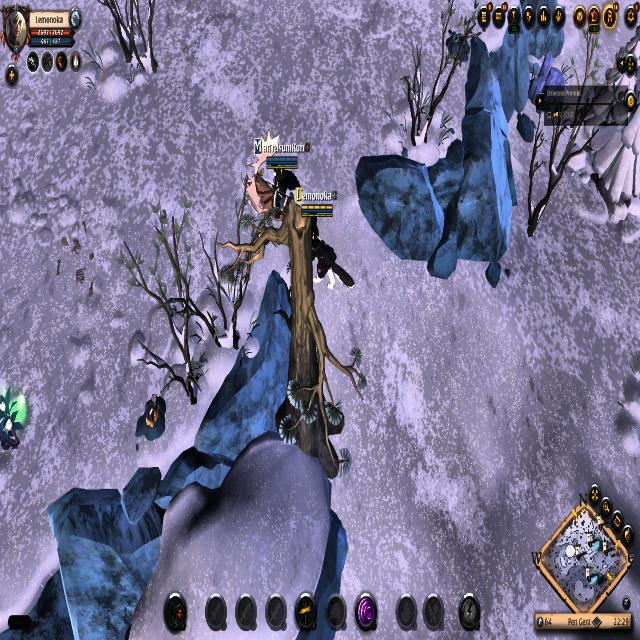ore tier 2: (134, 390, 167, 443)
